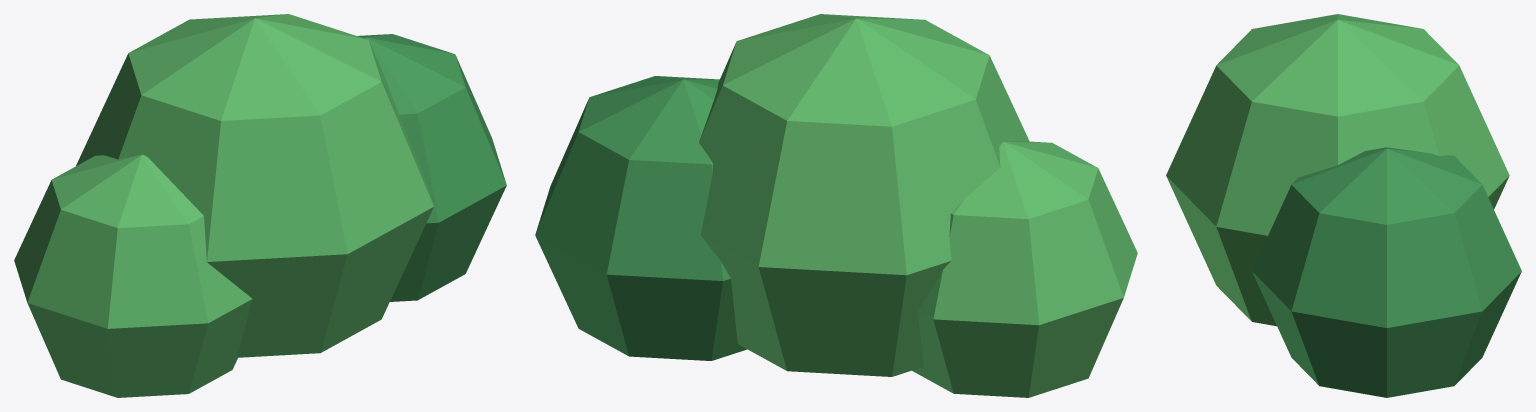
The model's file is EN_Bush.glb.
3 renders of one model, left to right at view 1: azimuth 30°, elevation 25°; view 2: azimuth 150°, elevation 25°; view 3: azimuth 270°, elevation 25°, orthographic. The views are drawn at different scales.
Visible parts, largest first — view 1: EN_Bush; view 2: EN_Bush; view 3: EN_Bush.
Boxes of the visible parts, bbox=[...] form: EN_Bush: bbox=[14, 14, 506, 397]; EN_Bush: bbox=[535, 14, 1137, 397]; EN_Bush: bbox=[1166, 14, 1521, 397].
Size of the model in its own units: 2.2 by 1.4 by 1.45.
